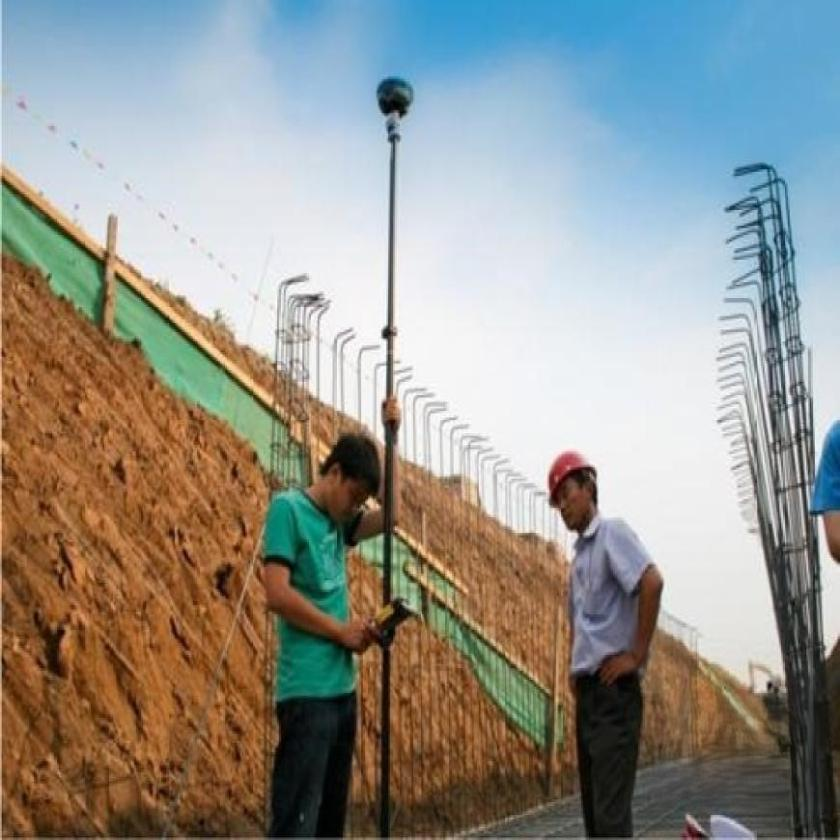Con_casco: (538, 429, 618, 554)
Sin_casco: (313, 415, 382, 538)
